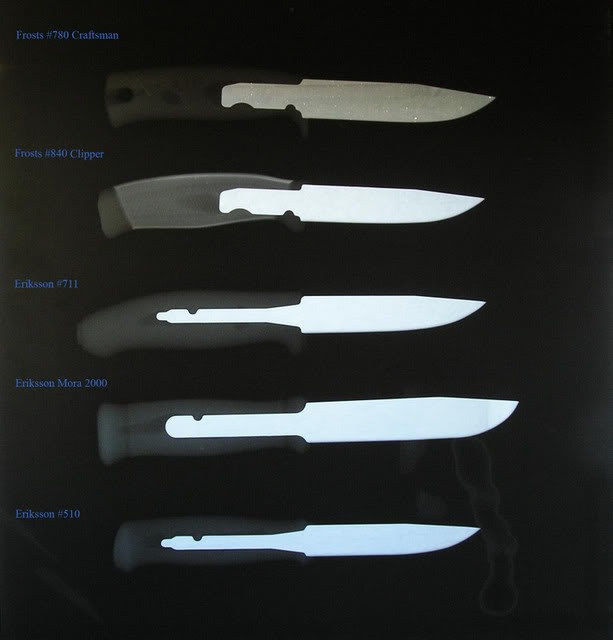knife: (94, 161, 489, 232), (90, 392, 523, 452), (113, 501, 484, 571), (94, 65, 498, 126), (82, 294, 489, 351)
